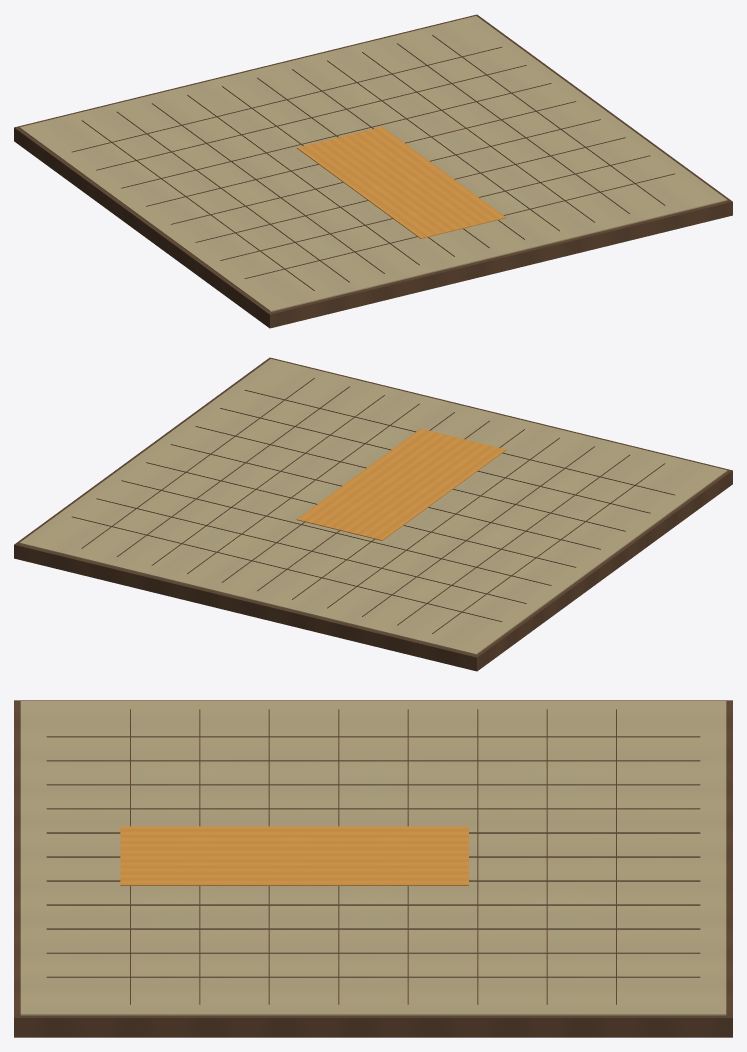
File: atlas100-s015-a07.glb
3 renders of one model, top to bottom at view 1: azimuth 30°, elevation 25°; view 2: azimuth 150°, elevation 25°; view 3: azimuth 270°, elevation 25°, orthographic. The views are drawn at different scales.
Visible parts, largest first — view 1: atlas100-s015-a07:part-001, atlas100-s015-a07:part-000, atlas100-s015-a07:part-021, atlas100-s015-a07:part-013, atlas100-s015-a07:part-014, atlas100-s015-a07:part-015, atlas100-s015-a07:part-020, atlas100-s015-a07:part-018, atlas100-s015-a07:part-019, atlas100-s015-a07:part-017, atlas100-s015-a07:part-016; view 2: atlas100-s015-a07:part-001, atlas100-s015-a07:part-000, atlas100-s015-a07:part-021, atlas100-s015-a07:part-013, atlas100-s015-a07:part-015, atlas100-s015-a07:part-014, atlas100-s015-a07:part-020, atlas100-s015-a07:part-016, atlas100-s015-a07:part-017, atlas100-s015-a07:part-018, atlas100-s015-a07:part-019; view 3: atlas100-s015-a07:part-001, atlas100-s015-a07:part-000, atlas100-s015-a07:part-021, atlas100-s015-a07:part-010, atlas100-s015-a07:part-009, atlas100-s015-a07:part-012, atlas100-s015-a07:part-002, atlas100-s015-a07:part-003, atlas100-s015-a07:part-004, atlas100-s015-a07:part-005, atlas100-s015-a07:part-011, atlas100-s015-a07:part-006 (+4 smaller).
Part boxes in pixels (x1,y1,x2,y2): atlas100-s015-a07:part-001: [19, 16, 727, 311]; atlas100-s015-a07:part-000: [14, 14, 732, 328]; atlas100-s015-a07:part-021: [297, 126, 506, 238]; atlas100-s015-a07:part-013: [72, 47, 502, 152]; atlas100-s015-a07:part-014: [96, 65, 526, 170]; atlas100-s015-a07:part-015: [121, 83, 551, 188]; atlas100-s015-a07:part-020: [244, 173, 674, 278]; atlas100-s015-a07:part-018: [195, 137, 625, 242]; atlas100-s015-a07:part-019: [220, 155, 650, 260]; atlas100-s015-a07:part-017: [170, 119, 600, 224]; atlas100-s015-a07:part-016: [146, 101, 576, 206]; atlas100-s015-a07:part-001: [19, 359, 727, 654]; atlas100-s015-a07:part-000: [14, 357, 732, 671]; atlas100-s015-a07:part-021: [296, 428, 506, 540]; atlas100-s015-a07:part-013: [72, 516, 502, 621]; atlas100-s015-a07:part-015: [121, 480, 551, 585]; atlas100-s015-a07:part-014: [96, 498, 526, 603]; atlas100-s015-a07:part-020: [244, 390, 674, 495]; atlas100-s015-a07:part-016: [146, 462, 576, 567]; atlas100-s015-a07:part-017: [170, 444, 600, 549]; atlas100-s015-a07:part-018: [195, 426, 625, 531]; atlas100-s015-a07:part-019: [220, 408, 650, 513]; atlas100-s015-a07:part-001: [20, 701, 726, 1015]; atlas100-s015-a07:part-000: [14, 700, 732, 1037]; atlas100-s015-a07:part-021: [120, 826, 468, 885]; atlas100-s015-a07:part-010: [46, 928, 700, 929]; atlas100-s015-a07:part-009: [46, 904, 700, 905]; atlas100-s015-a07:part-012: [46, 976, 700, 977]; atlas100-s015-a07:part-002: [46, 736, 700, 737]; atlas100-s015-a07:part-003: [46, 760, 700, 761]; atlas100-s015-a07:part-004: [46, 784, 700, 785]; atlas100-s015-a07:part-005: [46, 808, 700, 809]; atlas100-s015-a07:part-011: [46, 952, 700, 953]; atlas100-s015-a07:part-006: [46, 832, 700, 833].
Size of the model in its own units: 11.9 by 0.404 by 11.39.
Materials: 3 (3 with a texture image).
